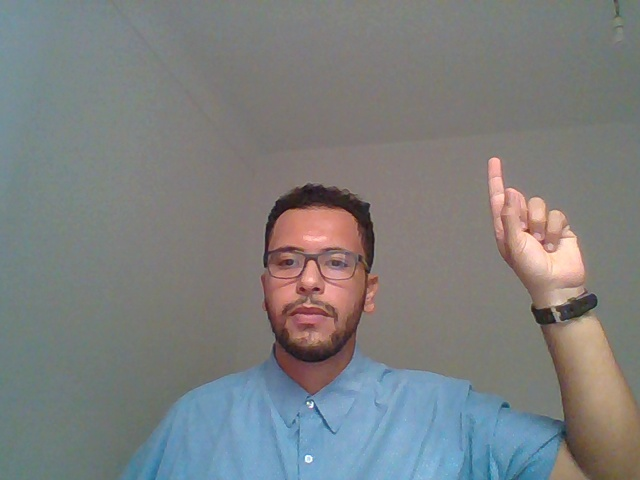handup: (442, 120, 639, 438)
